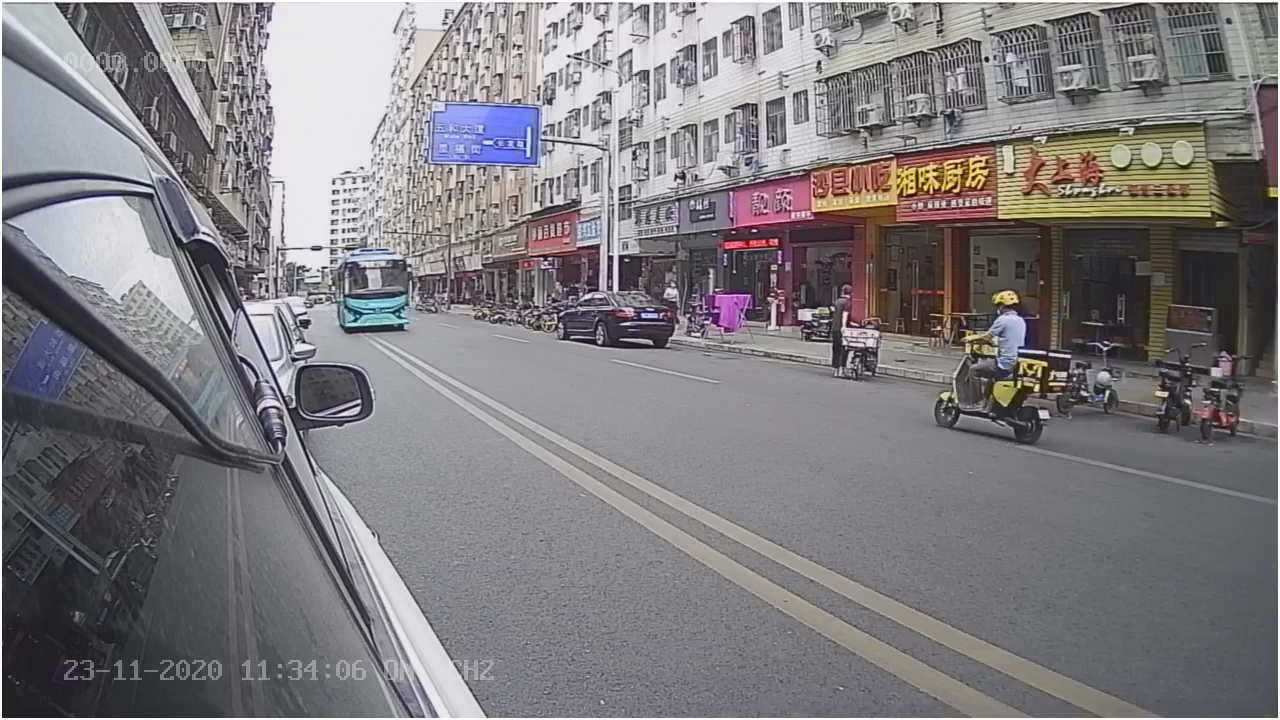person: (960, 284, 1023, 354)
